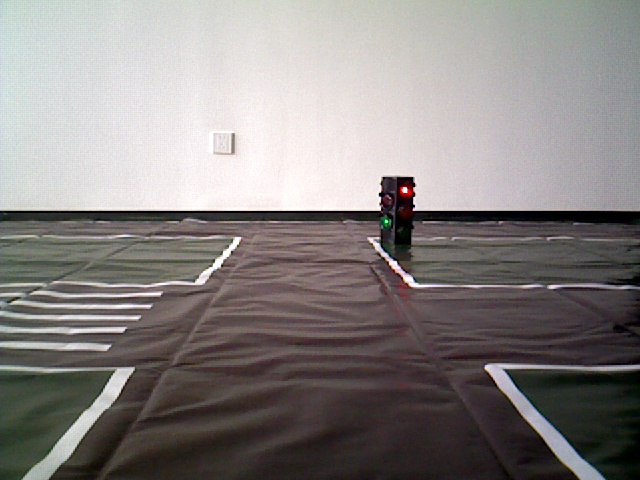red: (383, 178, 413, 250)
